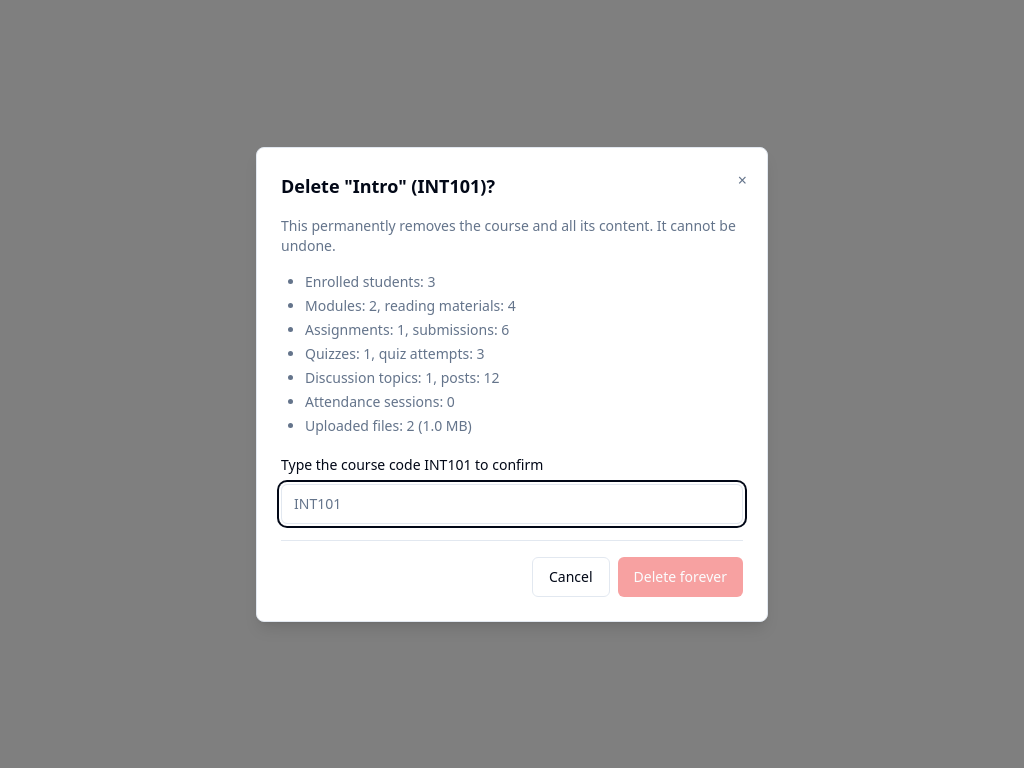
Test: DeleteCourseDialog › disables the delete button until the typed code matches
The width and height of the screenshot is (1024, 768).
Expected: the button "Delete forever" is disabled, [618,556,743,596]
In the field labelled "Type the course code INT101 to confirm": (512, 504) [281,484,743,524], type "wrong"
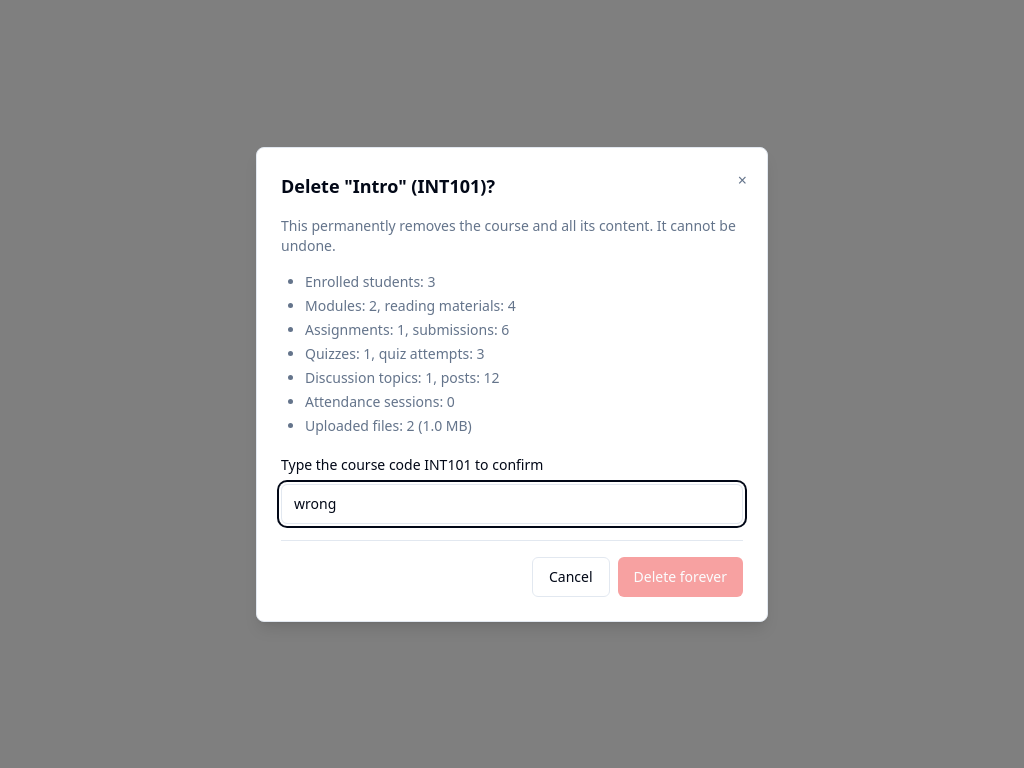
Expected: the button "Delete forever" is disabled, [618,556,743,596]
Replace the text in the field labelled "Type the course code INT101 to confirm" with "INT101": (512, 504) [281,484,743,524]
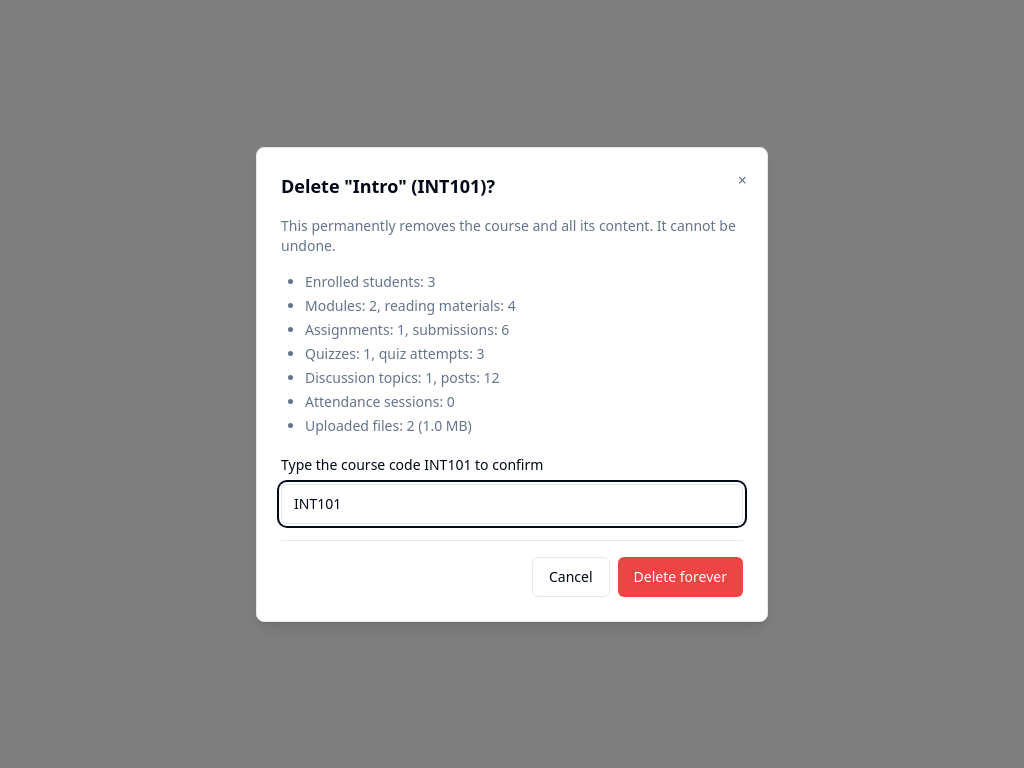
Expected: the button "Delete forever" is enabled, [618,556,743,596]
